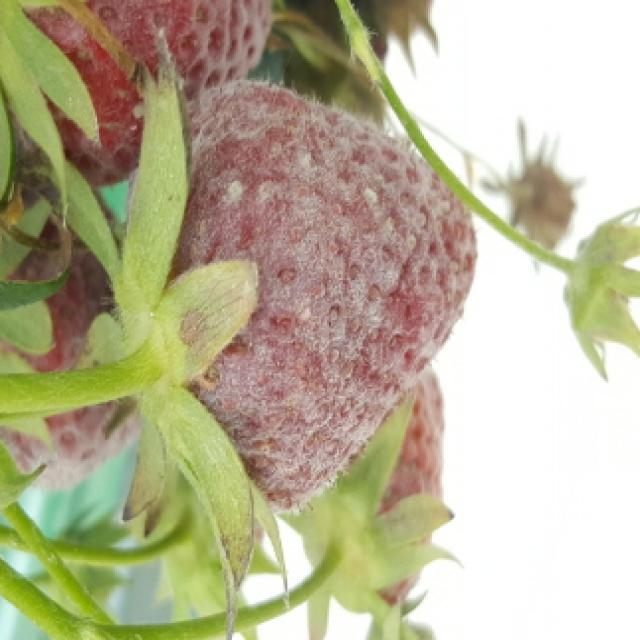Powdery Mildew Fruit: (124, 77, 482, 516), (0, 183, 140, 492)
